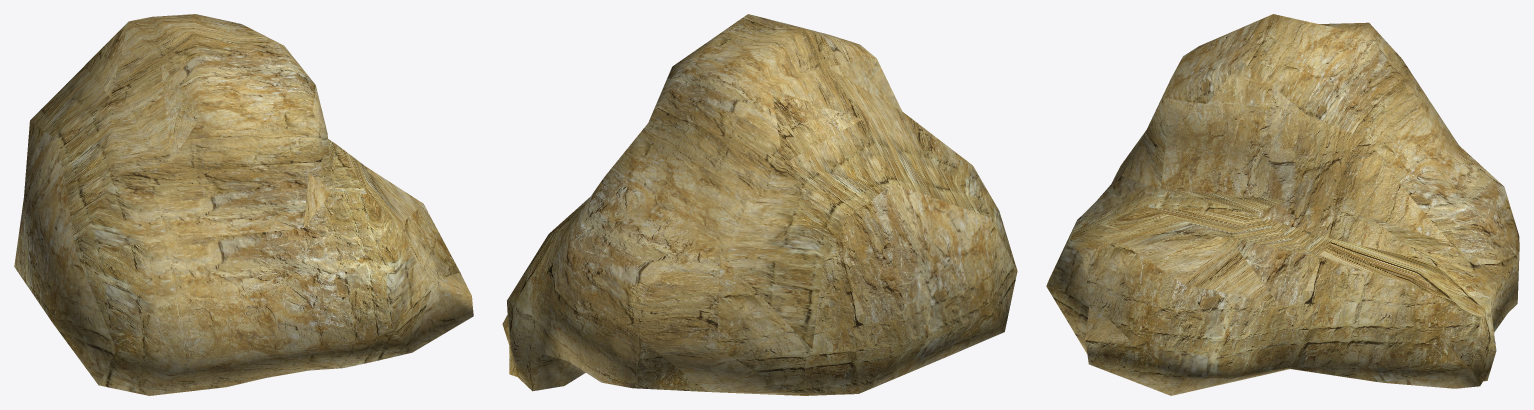
Rendered from Boulder7.dae.
The picture shows the model from 3 angles, left to right: view 1: azimuth 30°, elevation 25°; view 2: azimuth 150°, elevation 25°; view 3: azimuth 270°, elevation 25°; orthographic projection. The views are drawn at different scales.
Parts seen in each view (by area): view 1: rock0; view 2: rock0; view 3: rock0.
Boxes of the visible parts, box(x1,y1,x2,y2) form: rock0: box(14, 14, 473, 395); rock0: box(502, 14, 1017, 395); rock0: box(1046, 14, 1519, 395).
Size of the model in its own units: 1.56 by 1.71 by 1.24.
